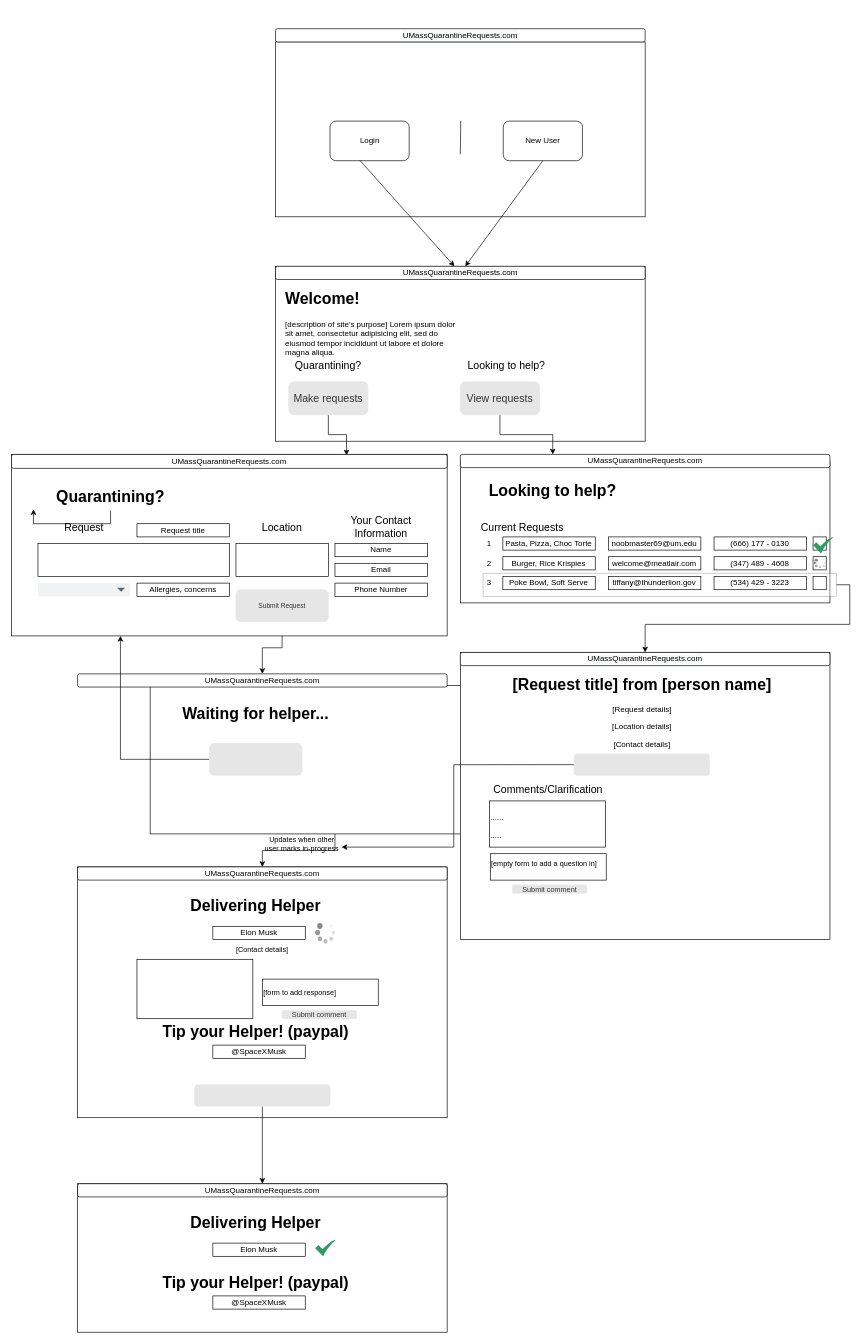
The diagram is 867 pixels wide and 1344 high, and some of its shapes have lost their labels. The shapes that lost their labels are listed below. From the top down, each one's box as (x1, y1, x2, y2) in pixels, then its label:
(37, 543, 229, 577): Details (courses of meal, description of goods to pick up, etc.)
(235, 543, 328, 577): Address/details
(38, 583, 130, 596): Request Type
(209, 743, 302, 775): Edit Request
(574, 753, 710, 775): Mark request in progress
(136, 959, 253, 1019): [comments/questions from helper]
(194, 1084, 330, 1106): Mark request completed
